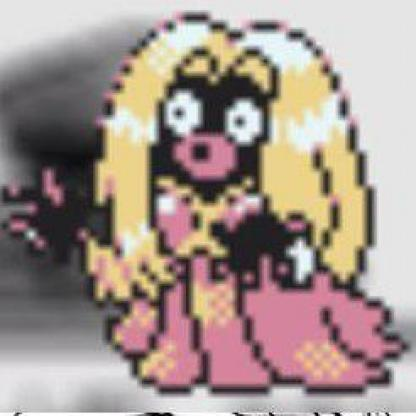Jynx: (24, 1, 416, 416)
